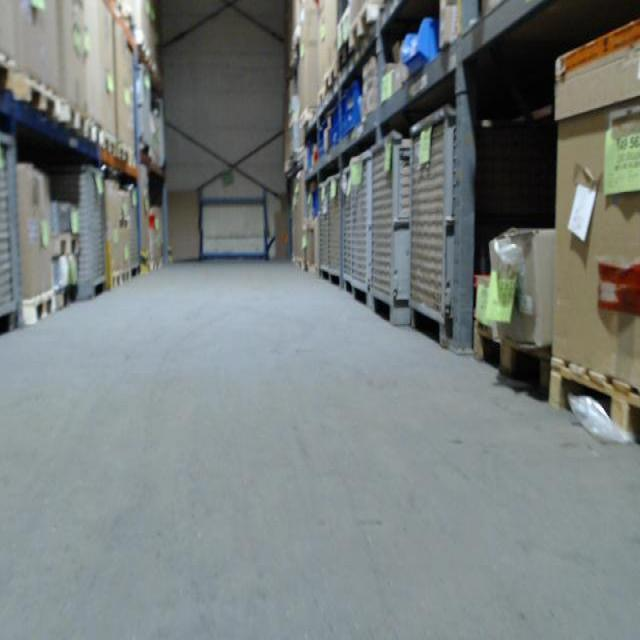pallet: (546, 359, 640, 447), (470, 323, 553, 400), (22, 73, 62, 123), (348, 3, 377, 54), (22, 289, 55, 326), (62, 102, 87, 137), (0, 53, 15, 94), (324, 65, 338, 98), (88, 120, 102, 146), (338, 41, 349, 73), (104, 136, 117, 157), (118, 146, 130, 164), (111, 272, 122, 288), (121, 269, 130, 283)
small_load_carrier: (342, 80, 367, 141), (317, 121, 330, 161), (330, 101, 339, 152)
stillage: (404, 99, 482, 356), (368, 128, 415, 338), (64, 159, 112, 300), (1, 125, 27, 338), (344, 154, 370, 308), (319, 171, 343, 289), (125, 182, 143, 276)
